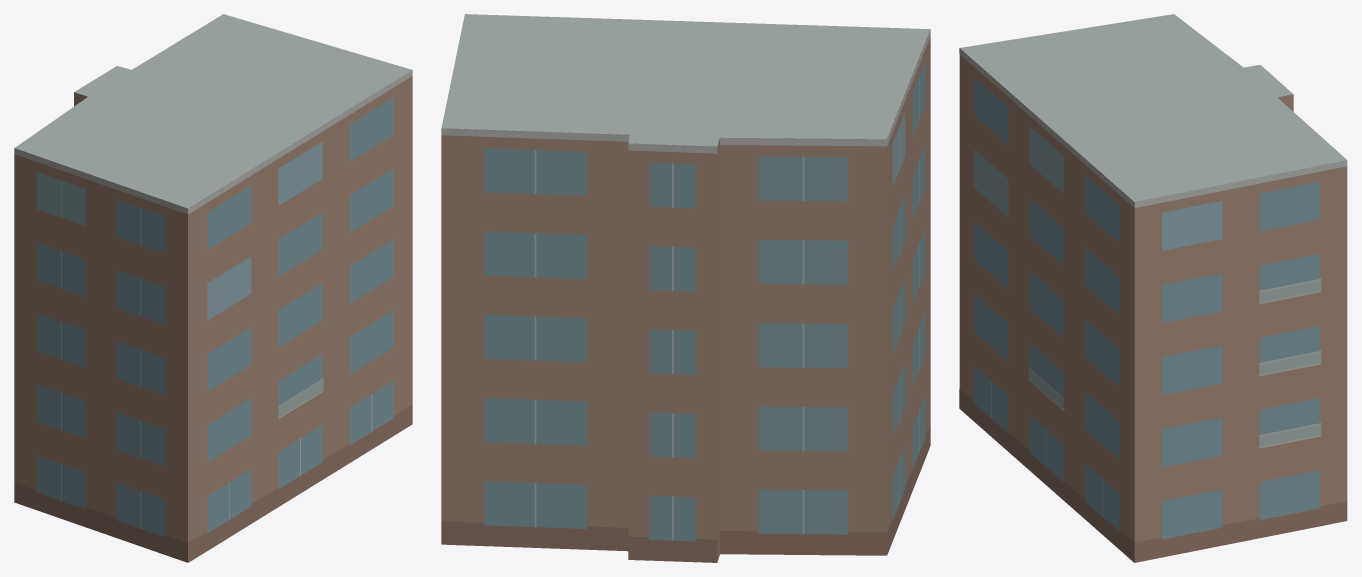
File: survey-upis-32536380.glb
3 views of the same model, side by side, from view 1: azimuth 30°, elevation 25°; view 2: azimuth 150°, elevation 25°; view 3: azimuth 270°, elevation 25° (orthographic). The views are drawn at different scales.
Visible parts, largest first — view 1: survey-upis-32536380.tmp; view 2: survey-upis-32536380.tmp; view 3: survey-upis-32536380.tmp.
Boxes of the visible parts, left/top/right/bottom form: survey-upis-32536380.tmp: left=14, top=14, right=412, bottom=562; survey-upis-32536380.tmp: left=441, top=14, right=930, bottom=562; survey-upis-32536380.tmp: left=959, top=14, right=1347, bottom=562.
Bounding box in the file's own units: 16.11 × 14.4 × 14.04.
